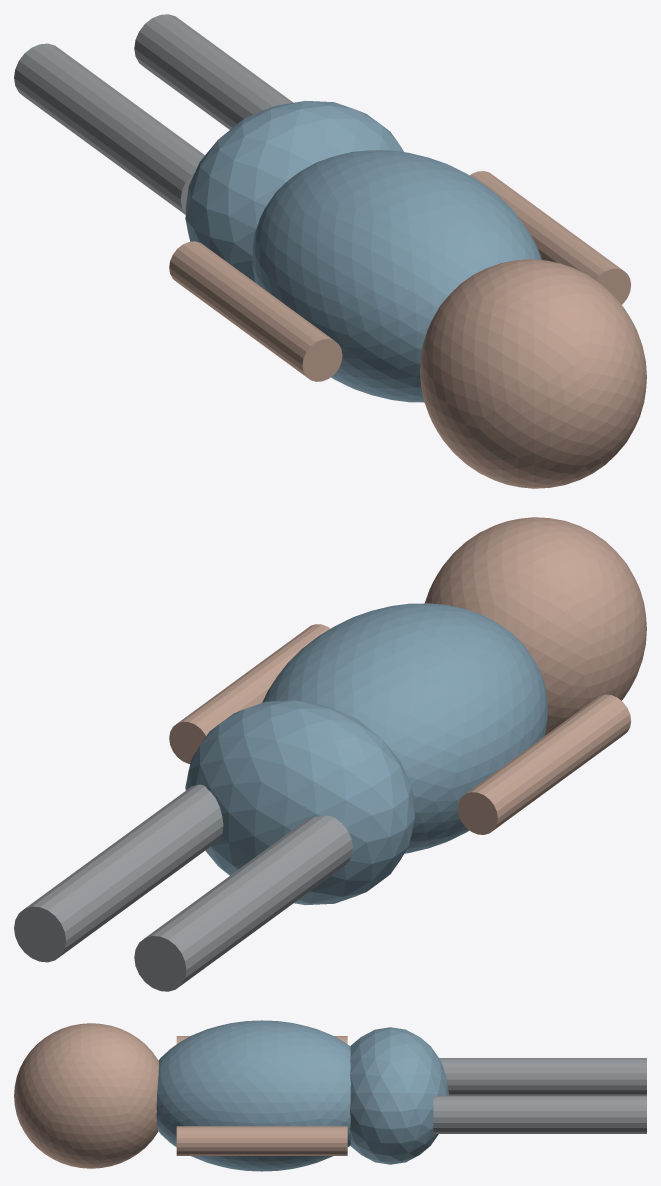
The model's file is child-high.glb.
3 views of the same model, one above another, from view 1: azimuth 30°, elevation 25°; view 2: azimuth 150°, elevation 25°; view 3: azimuth 270°, elevation 25° (orthographic). The views are drawn at different scales.
Parts seen in each view (by area): view 1: torso, head, pelvis, left_leg, left_arm, right_leg, right_arm; view 2: torso, pelvis, head, left_leg, right_leg, left_arm, right_arm; view 3: torso, head, pelvis, right_leg, left_leg, right_arm.
Part boxes in pixels (left/top/right/bottom): torso: left=252, top=150, right=541, bottom=402; head: left=420, top=259, right=646, bottom=488; pelvis: left=185, top=100, right=403, bottom=282; left_leg: left=14, top=43, right=204, bottom=214; left_arm: left=169, top=241, right=342, bottom=381; right_leg: left=134, top=14, right=292, bottom=129; right_arm: left=470, top=171, right=630, bottom=304; torso: left=262, top=603, right=547, bottom=853; pelvis: left=185, top=700, right=414, bottom=905; head: left=425, top=517, right=646, bottom=735; left_leg: left=134, top=815, right=352, bottom=991; right_leg: left=14, top=784, right=223, bottom=962; left_arm: left=458, top=694, right=630, bottom=834; right_arm: left=169, top=624, right=330, bottom=763; torso: left=156, top=1020, right=350, bottom=1171; head: left=14, top=1023, right=158, bottom=1168; pelvis: left=350, top=1027, right=448, bottom=1164; right_leg: left=433, top=1095, right=646, bottom=1133; left_leg: left=439, top=1058, right=646, bottom=1095; right_arm: left=176, top=1126, right=347, bottom=1155.
Size of the model in its own units: 0.82 by 0.4928 by 2.13.
